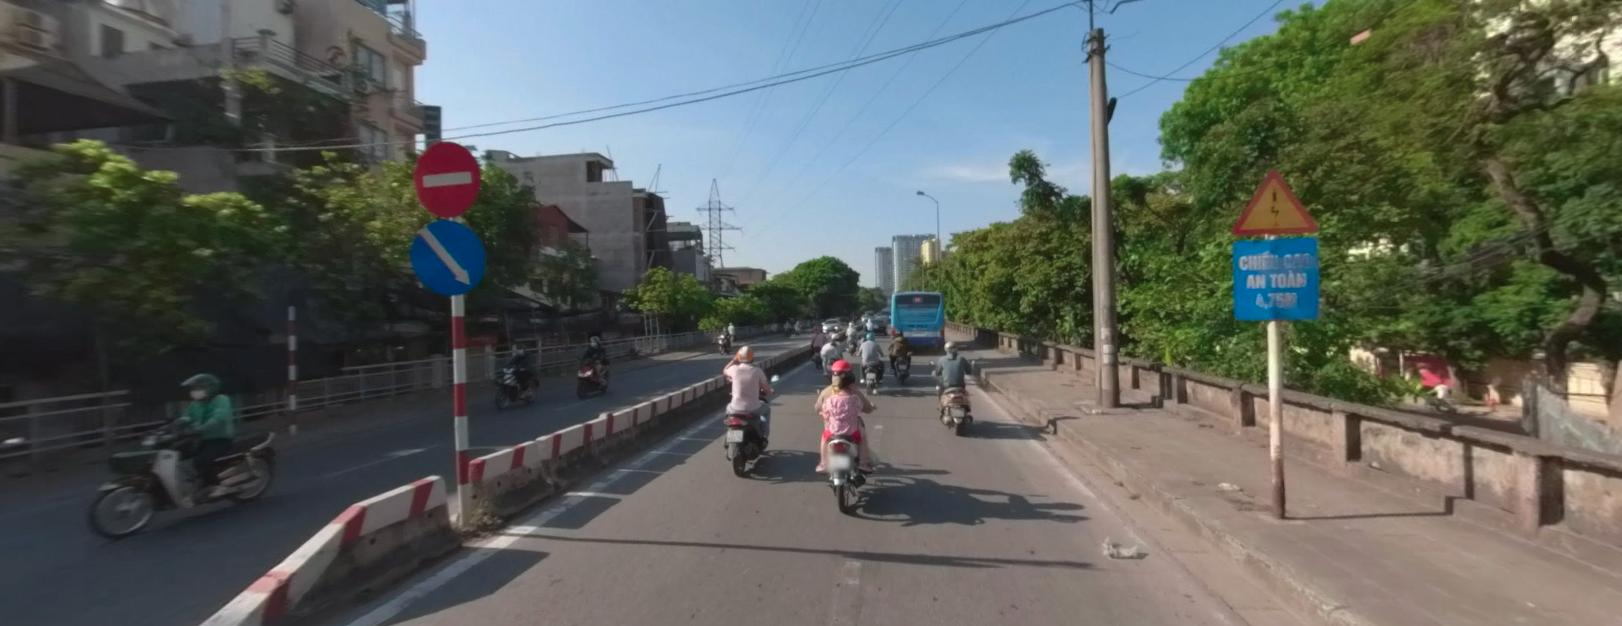Cam nguoc chieu: (415, 139, 479, 215)
Hieu lenh: (410, 219, 485, 294)
Nguy hiem: (1233, 168, 1317, 234)
